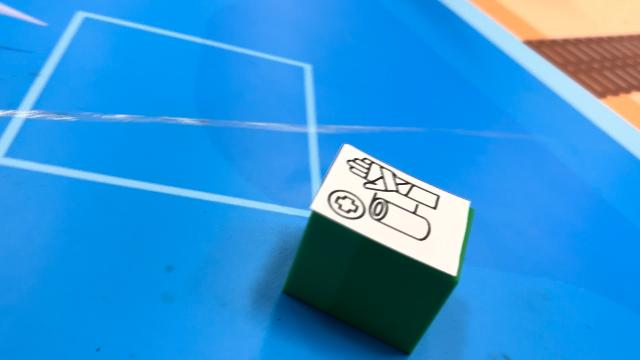bandage: (282, 142, 474, 356)
